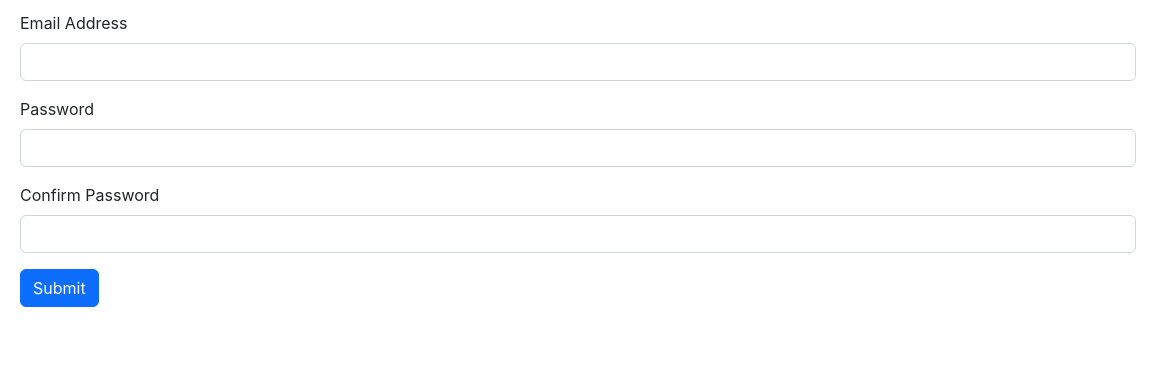
Scenario: App › Error Handling › should show password error if password less than 5 character
Step 1. Type "selena@gmail.com" into the field labelled "Email Address" → (578, 62), box [20,43,1136,81]
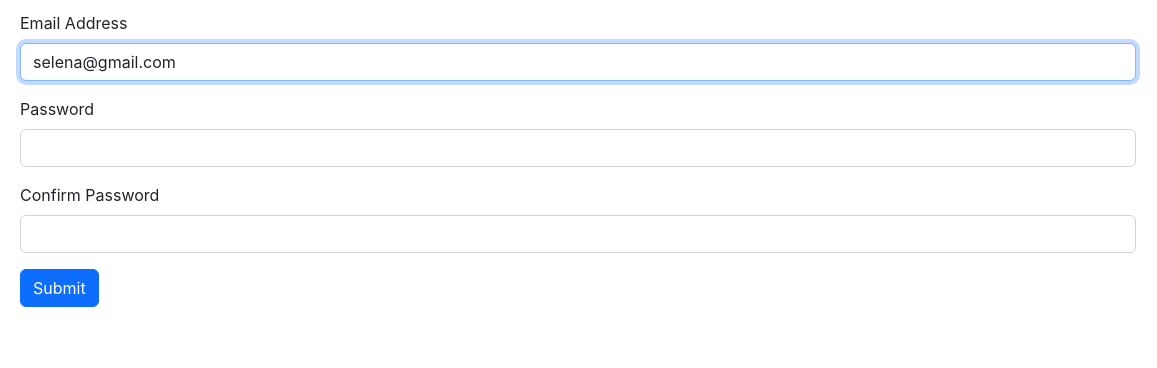
Check: the text "the password you enreted should contain 5 or more character" is not shown
Step 2. Type "123" into the password field labelled "Password" → (578, 148), box [20,129,1136,167]
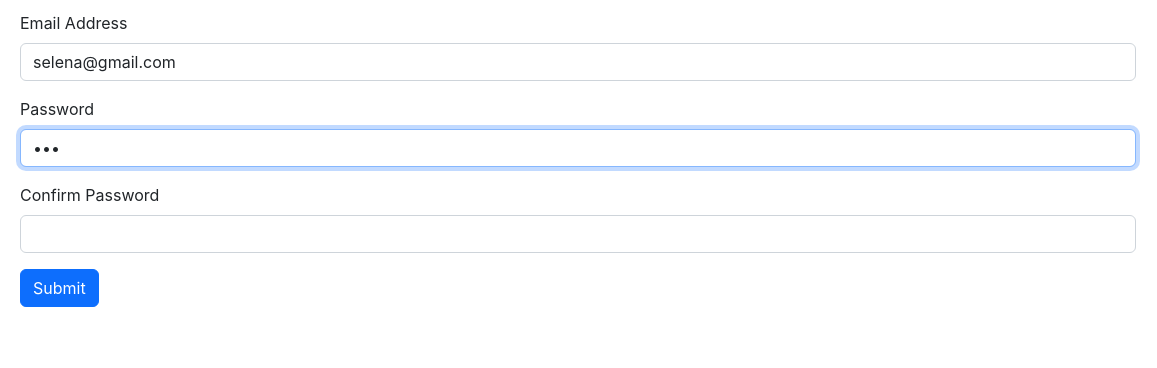
Step 3. Click the button "Submit" → (59, 288), box [20,269,99,307]
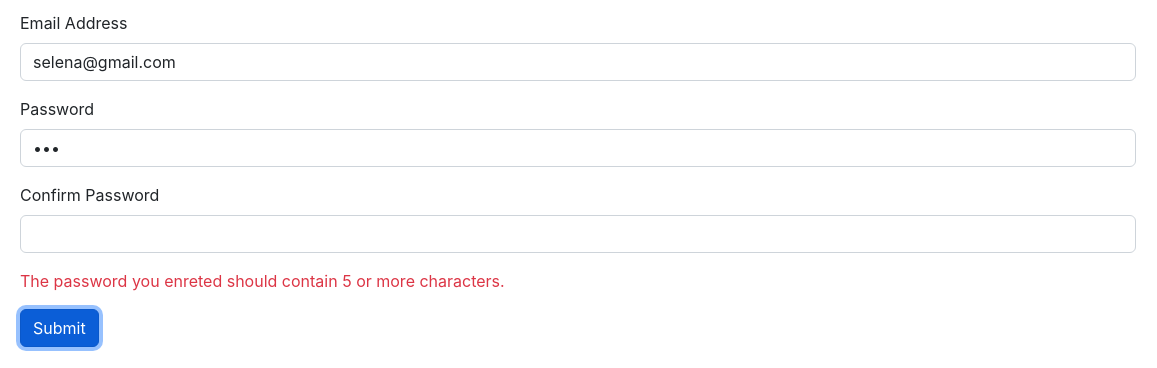
Check: the text "The password you enreted should contain 5 or more characters" is shown, box [20,271,505,291]
